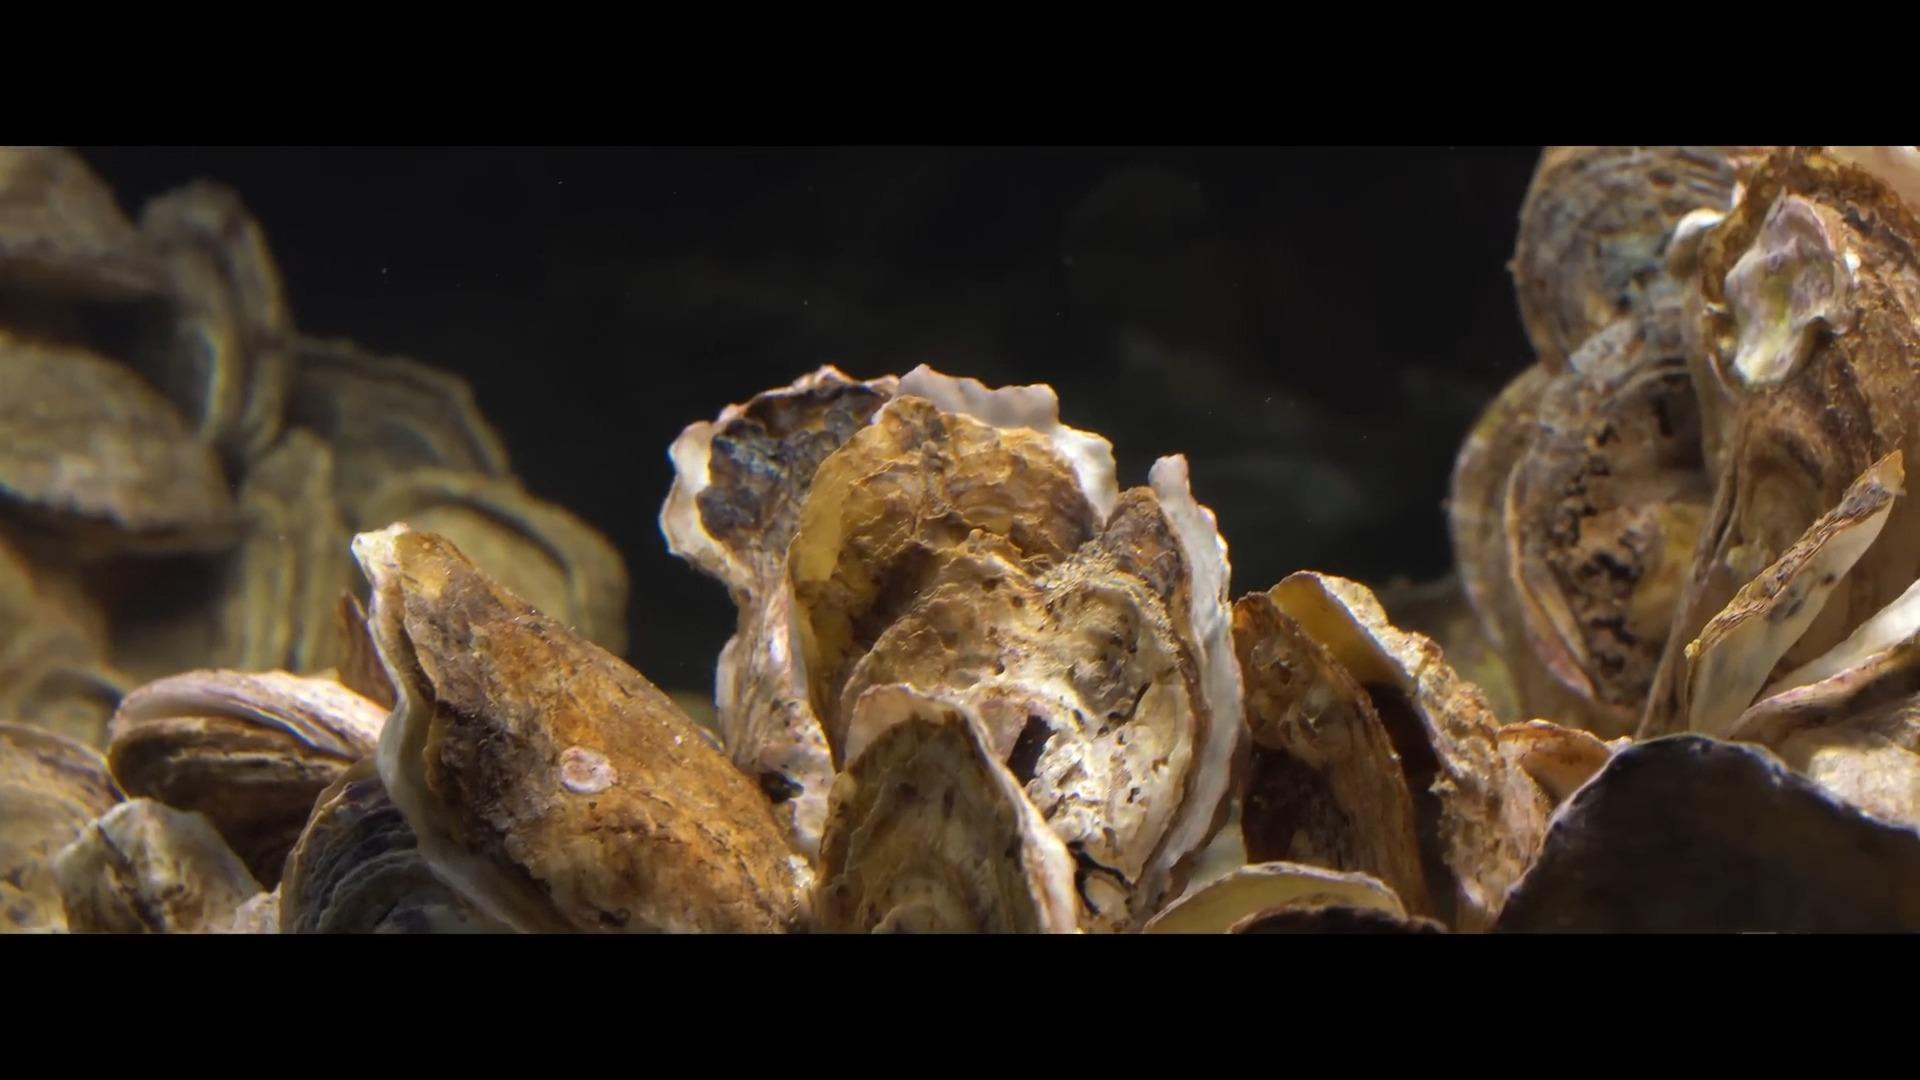Oyster: (820, 456, 1220, 934), (361, 526, 808, 934), (1651, 152, 1913, 736), (1255, 568, 1549, 926), (1485, 735, 1909, 928), (1515, 323, 1717, 709), (108, 671, 388, 878), (4, 324, 237, 550), (363, 469, 625, 662), (1511, 146, 1730, 371), (54, 796, 268, 931), (1, 736, 116, 924), (1247, 630, 1319, 719), (558, 746, 615, 793)
